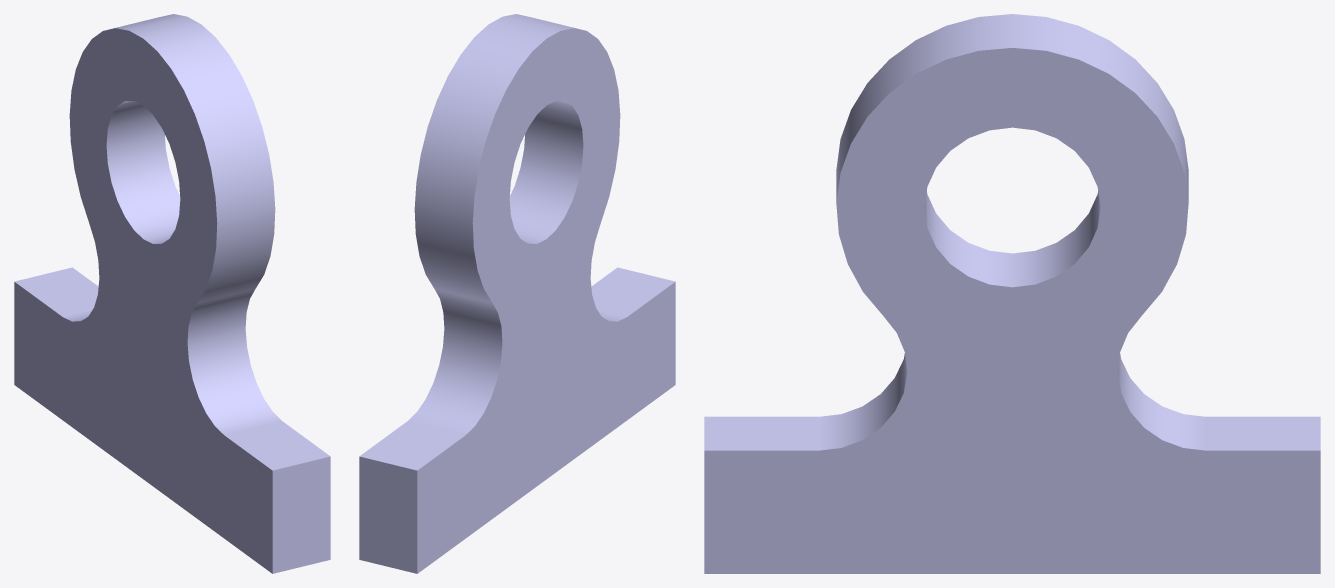
File: 1 Armella.fbx
3 views of the same model, side by side, from view 1: azimuth 30°, elevation 25°; view 2: azimuth 150°, elevation 25°; view 3: azimuth 270°, elevation 25° (orthographic). The views are drawn at different scales.
Visible parts, largest first — view 1: PartBody; view 2: PartBody; view 3: PartBody.
Boxes of the visible parts, box(x1,y1,x2,y2) form: PartBody: box(14, 14, 330, 573); PartBody: box(359, 14, 675, 573); PartBody: box(704, 14, 1320, 573).
Bounding box in the file's own units: 0.7874 × 5.71 × 6.06.
